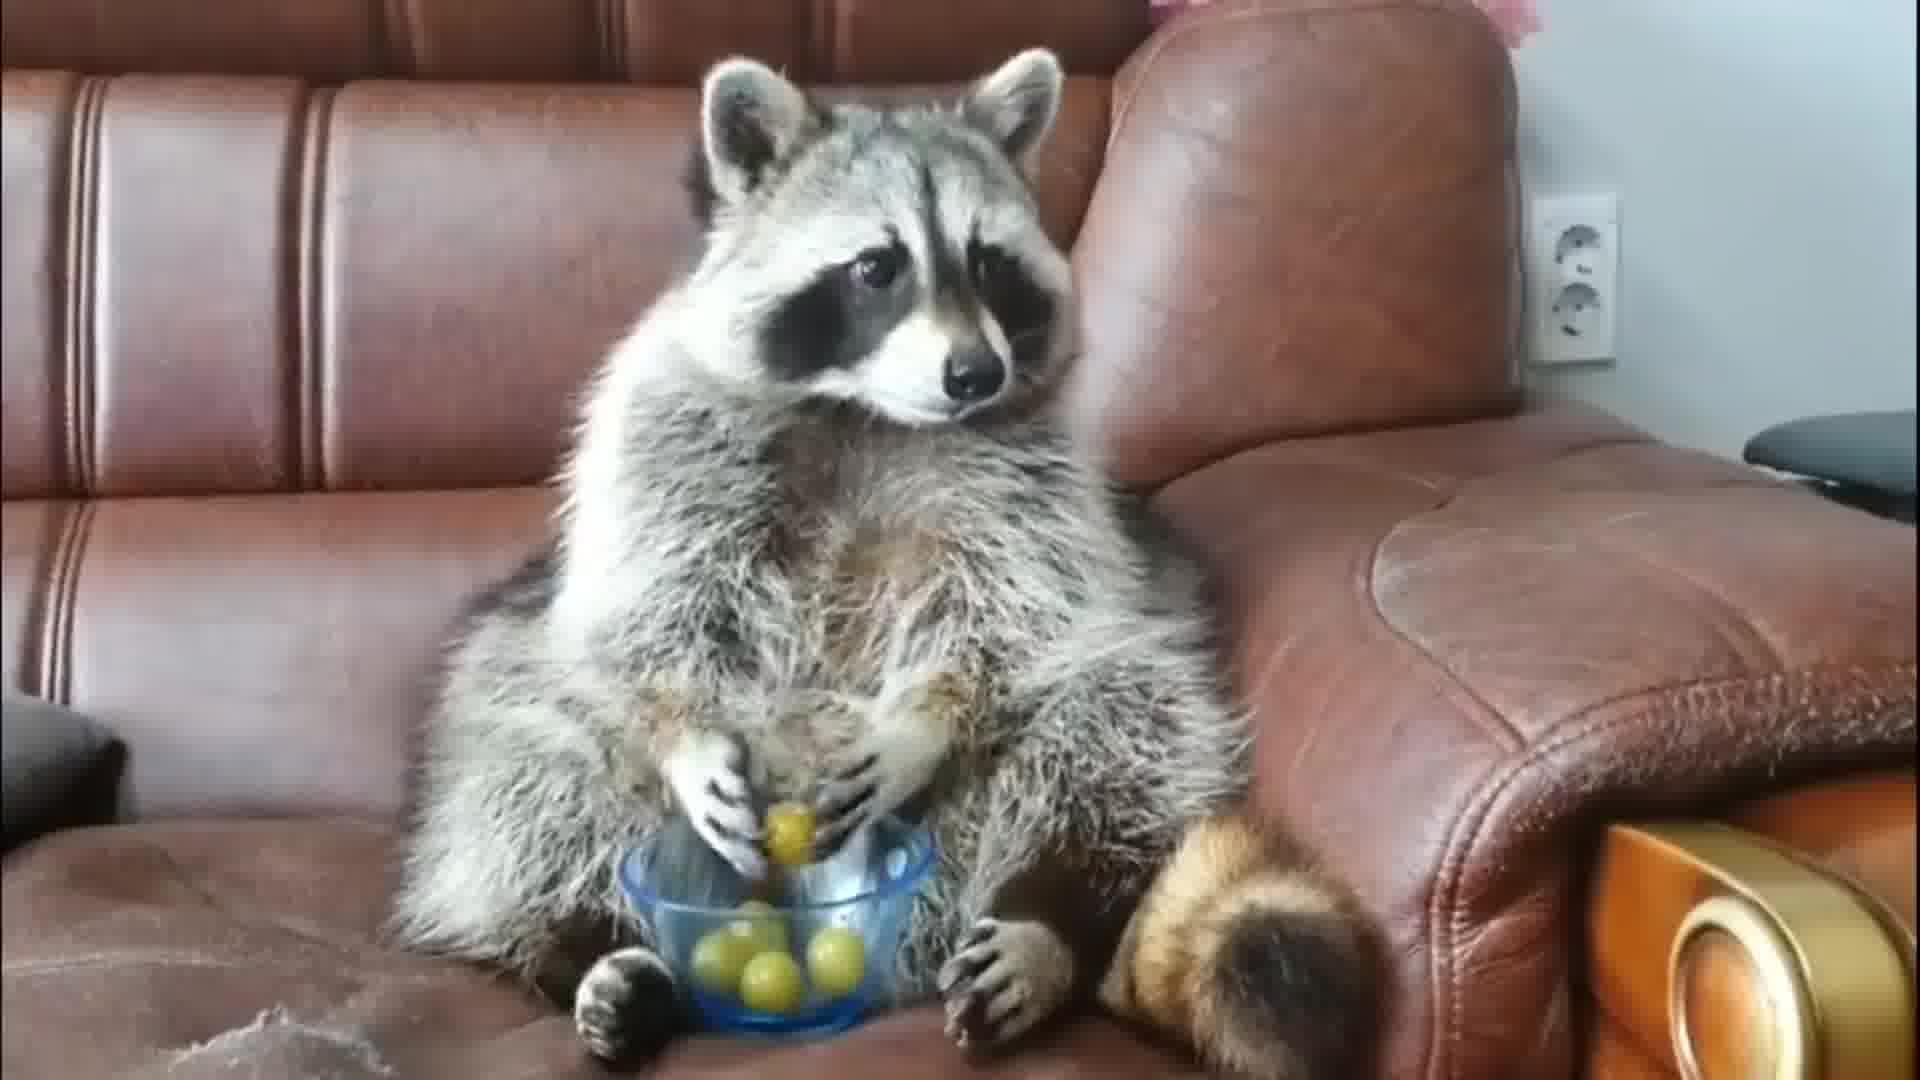raccoon: (389, 48, 1376, 1080)
